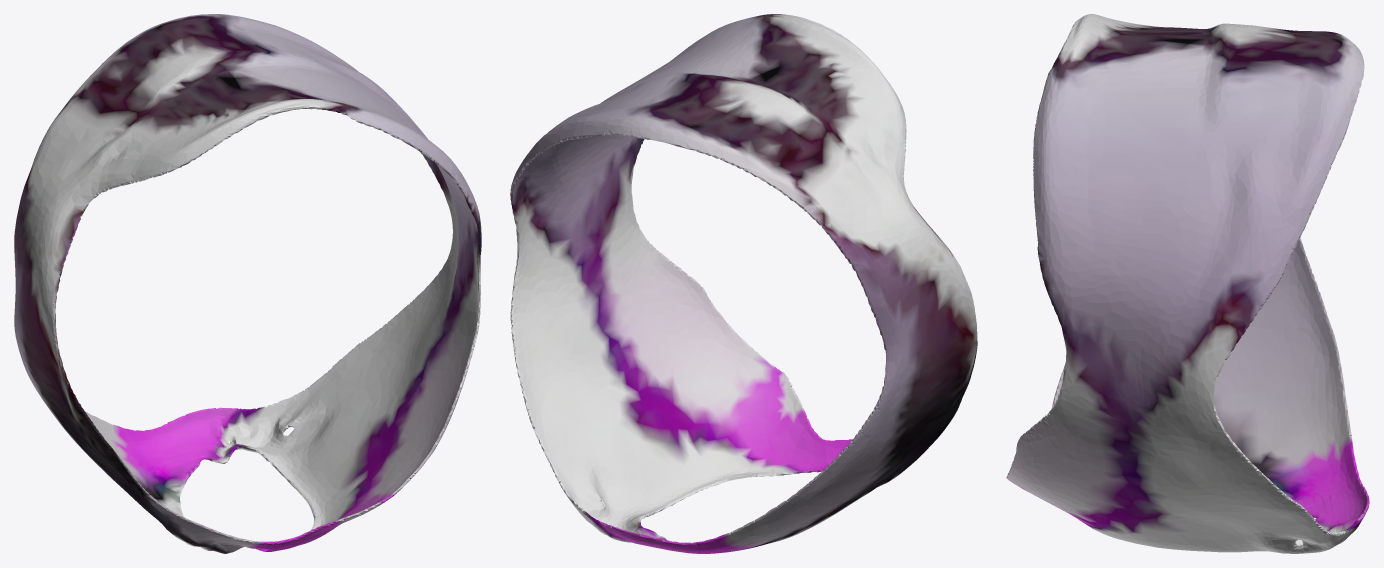
The model's file is ring_high_magic.glb.
The picture shows the model from 3 angles, left to right: view 1: azimuth 30°, elevation 25°; view 2: azimuth 150°, elevation 25°; view 3: azimuth 270°, elevation 25°; orthographic projection. The views are drawn at different scales.
Parts seen in each view (by area): view 1: geometry_0; view 2: geometry_0; view 3: geometry_0.
Boxes of the visible parts, x1=… form: geometry_0: x1=14, y1=14, x2=481, y2=553; geometry_0: x1=510, y1=14, x2=977, y2=553; geometry_0: x1=1006, y1=14, x2=1369, y2=553.
Bounding box in the file's own units: 0.5938 × 0.5994 × 0.4096.
